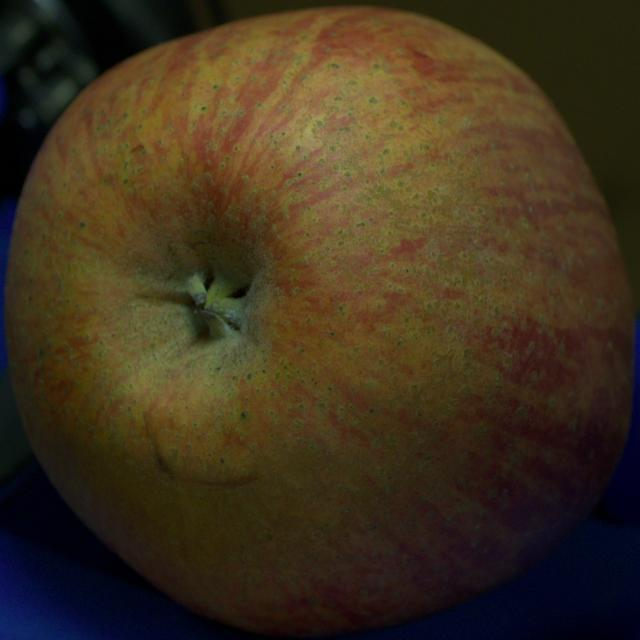apple: (5, 7, 634, 636)
bruise: (402, 29, 510, 81)
scratch: (140, 410, 261, 493)
